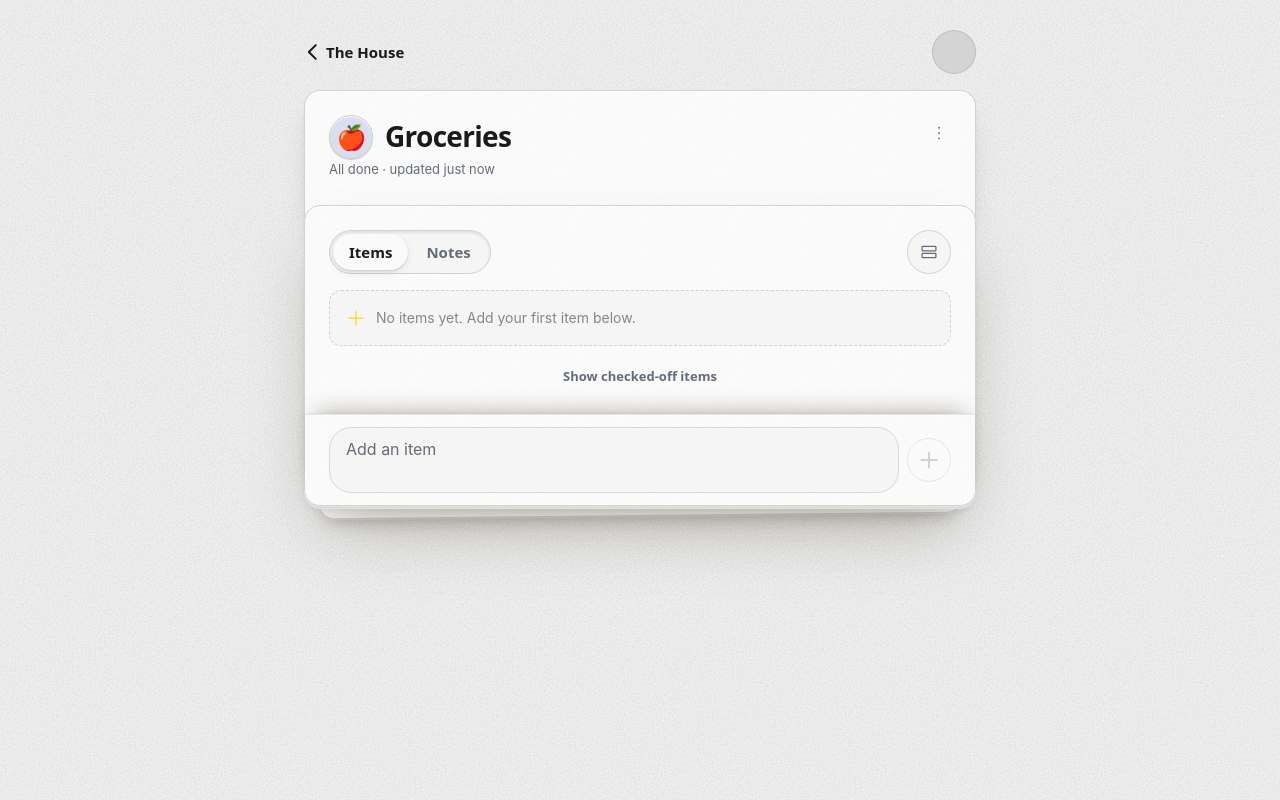
Scenario: ListPage notes › lets Clear all be undone until the user types again
The width and height of the screenshot is (1280, 800).
Click the tab "Notes".
click(449, 252)  # box [410,234,487,270]
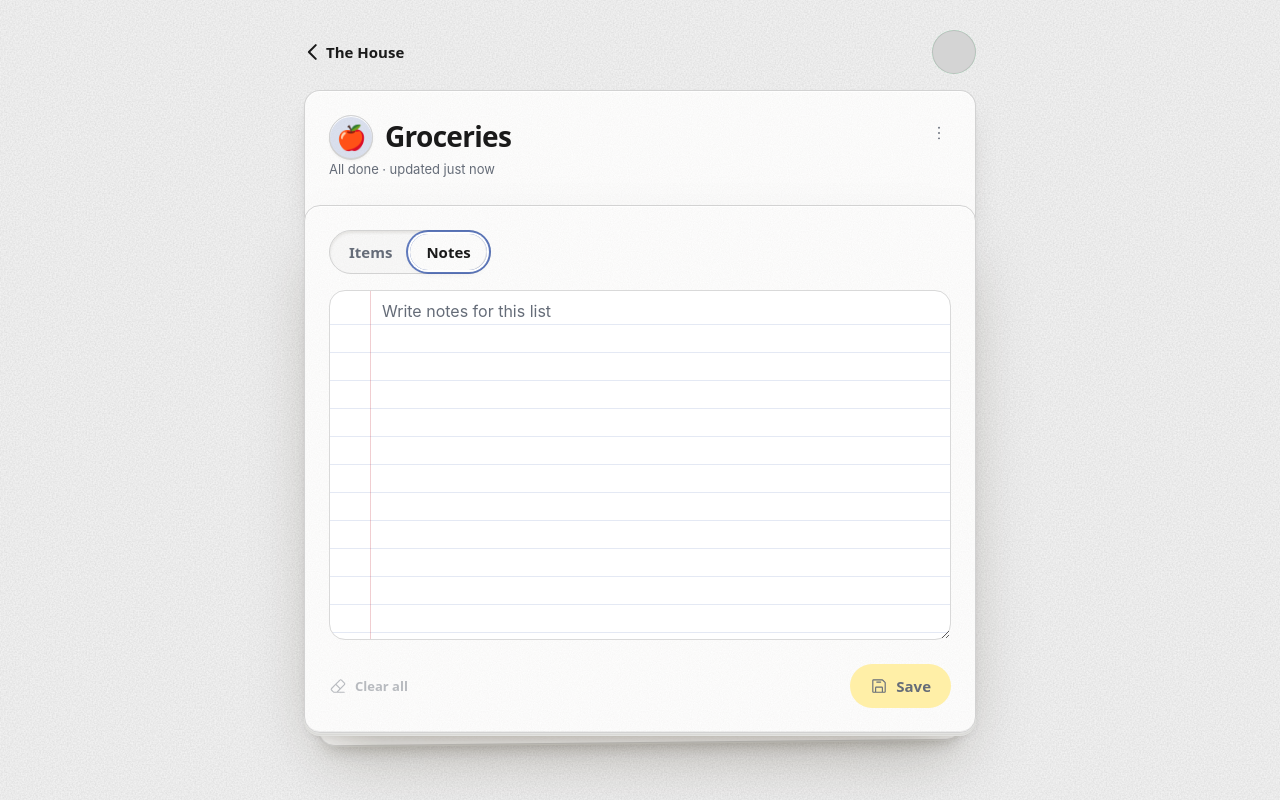
Type "Buy oat milk" into the text box with placeholder "Write notes for this list".
click(640, 465); type("Buy oat milk")  # box [329,290,951,640]
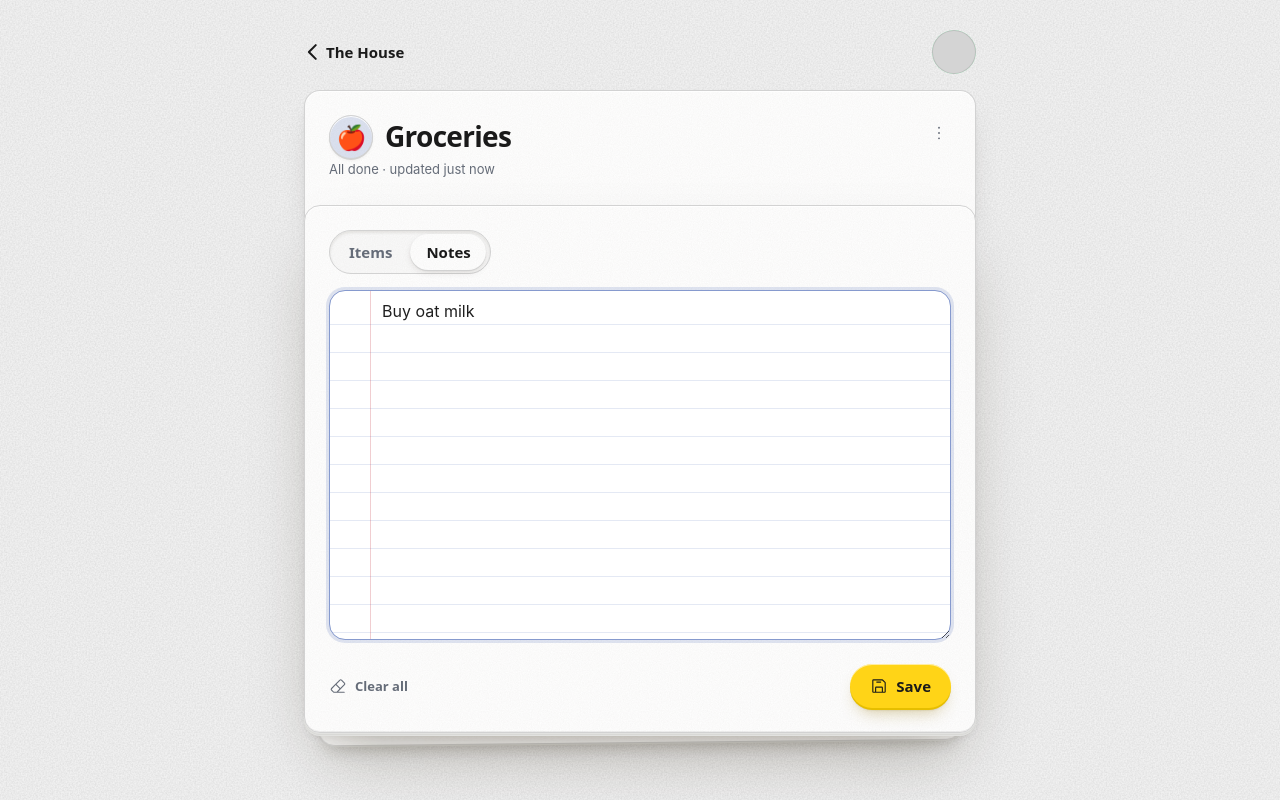
Click the button "Clear all".
click(368, 686)  # box [321,664,416,708]
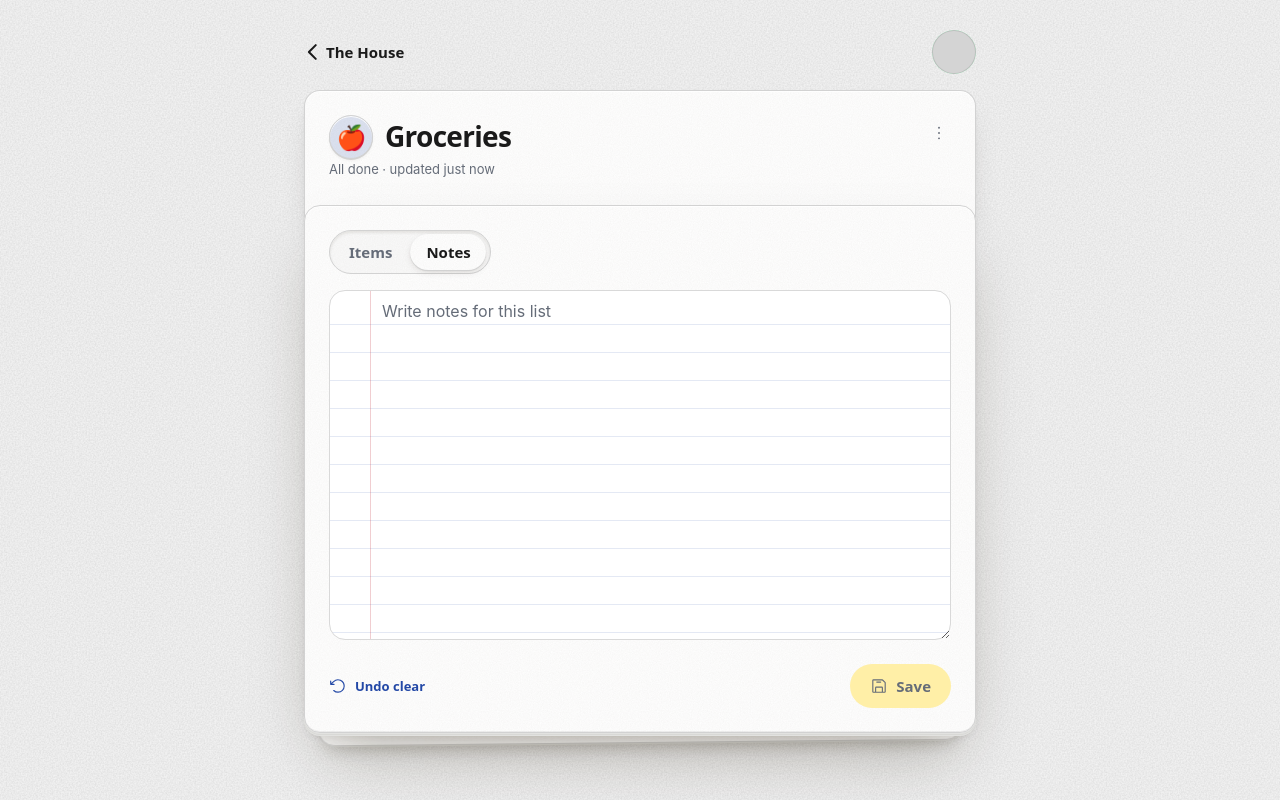
Expected: the text box with placeholder "Write notes for this list" is empty, [329,290,951,640]
Click the button "Undo clear".
click(377, 686)  # box [321,664,433,708]
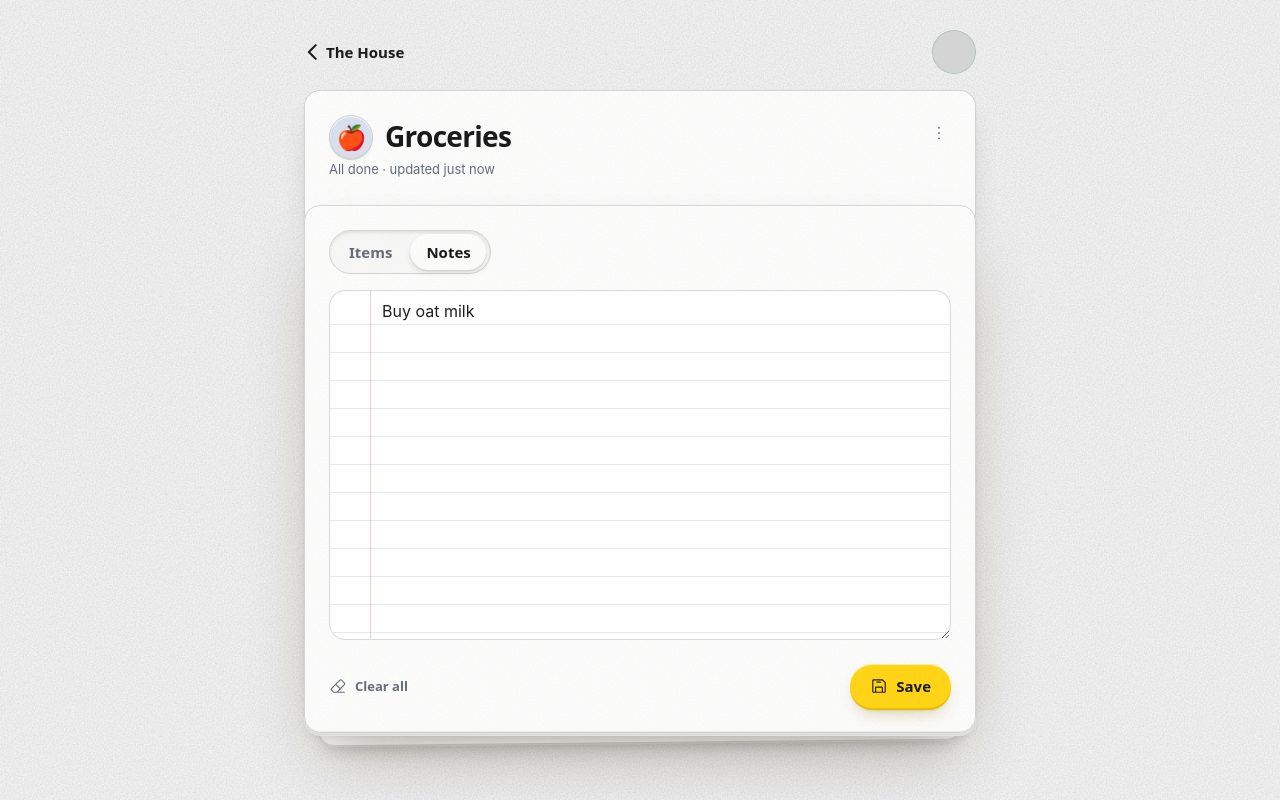
Click the button "Clear all".
click(368, 686)  # box [321,664,416,708]
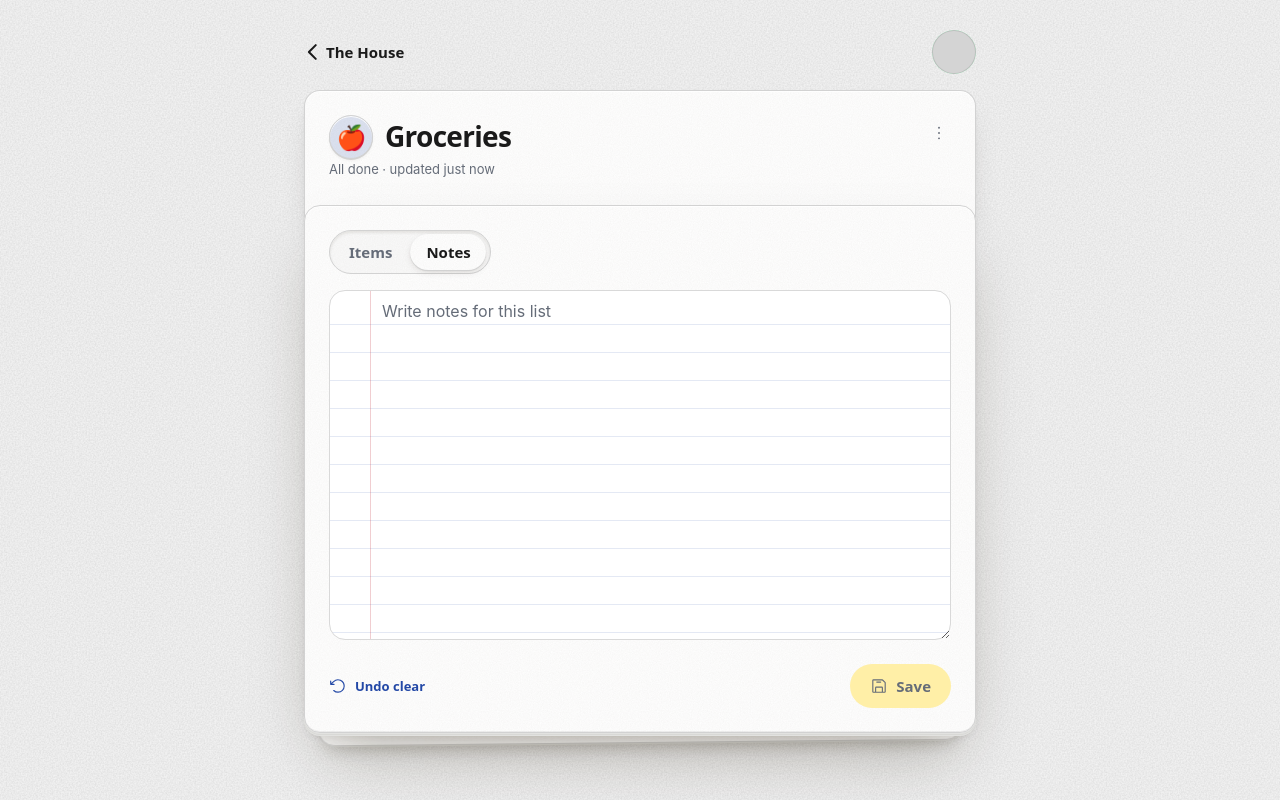
Type "x" into the text box with placeholder "Write notes for this list".
click(640, 465); type("x")  # box [329,290,951,640]
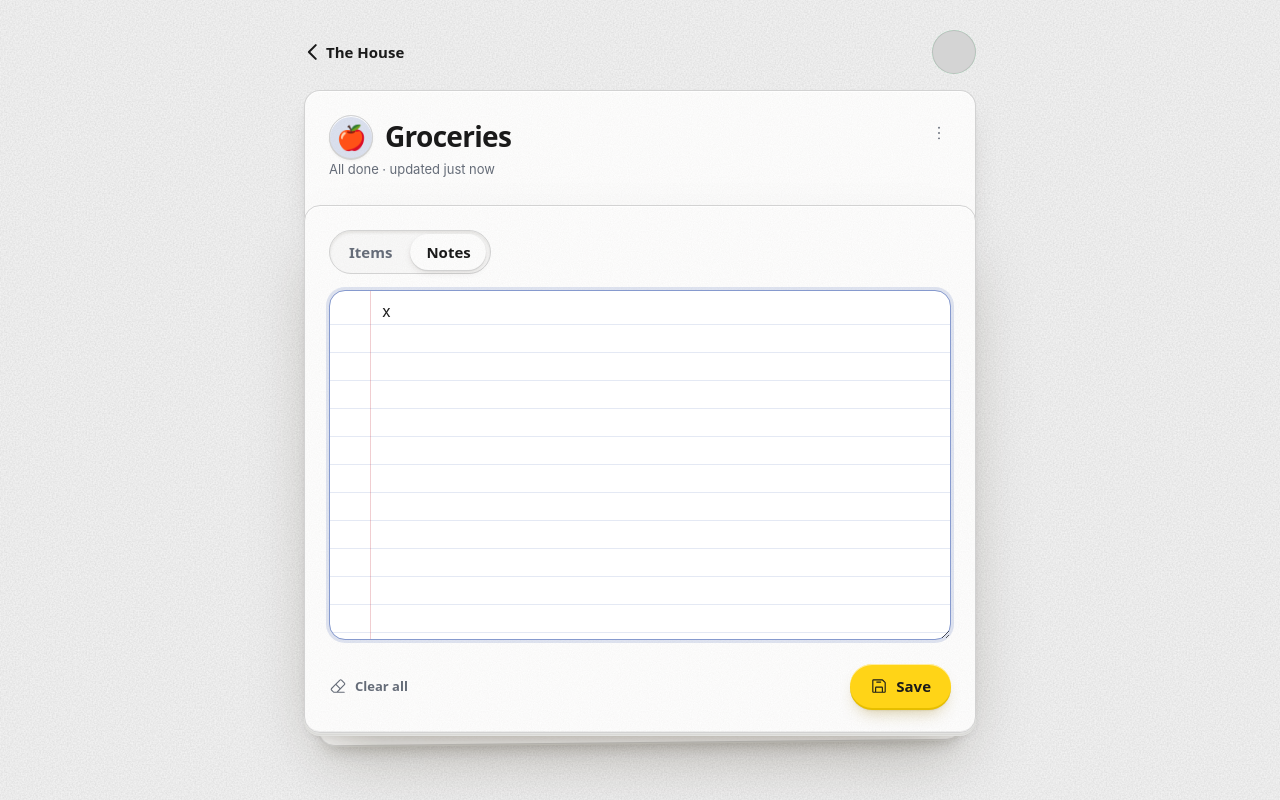
Expected: the button "Undo clear" is gone
